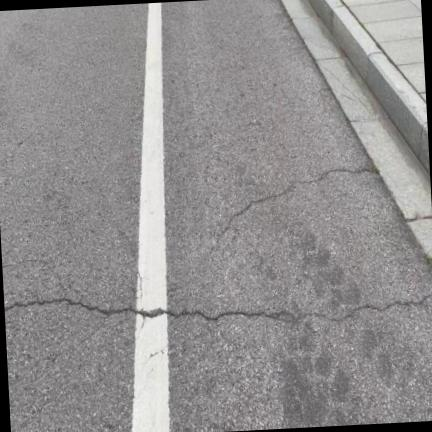Road: (160, 0, 431, 431)
